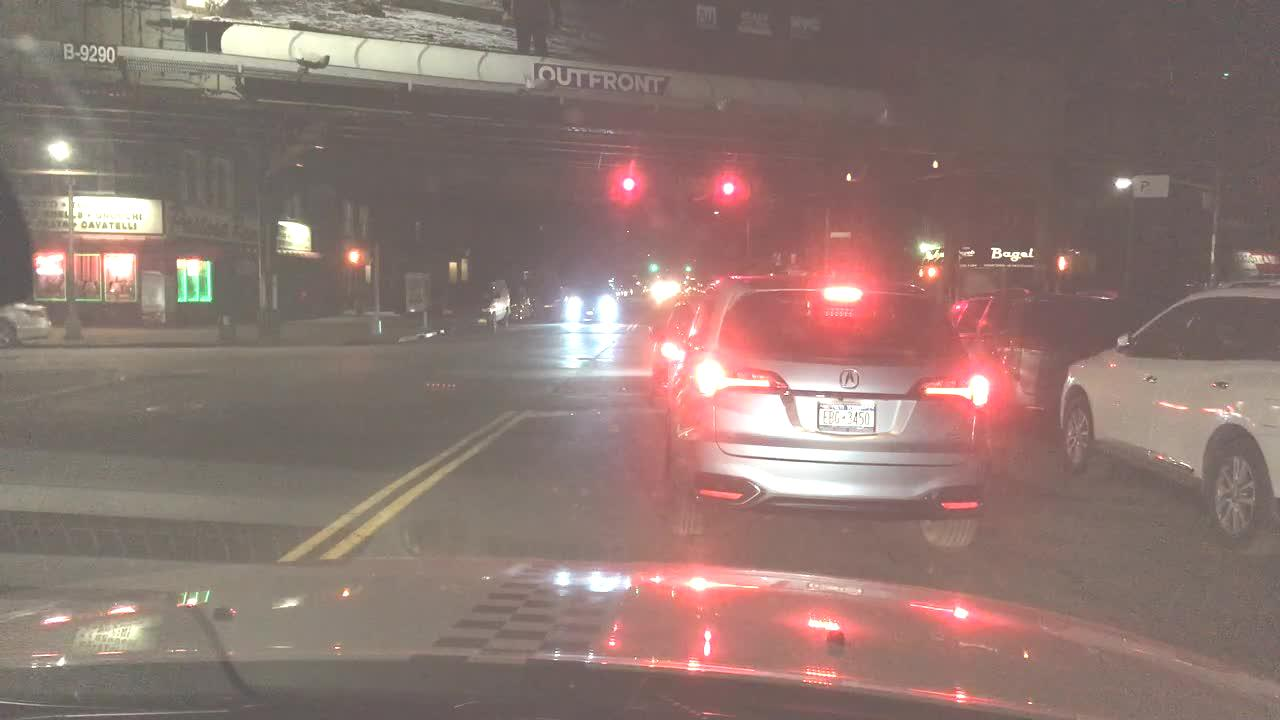acura: (829, 364, 866, 397)
